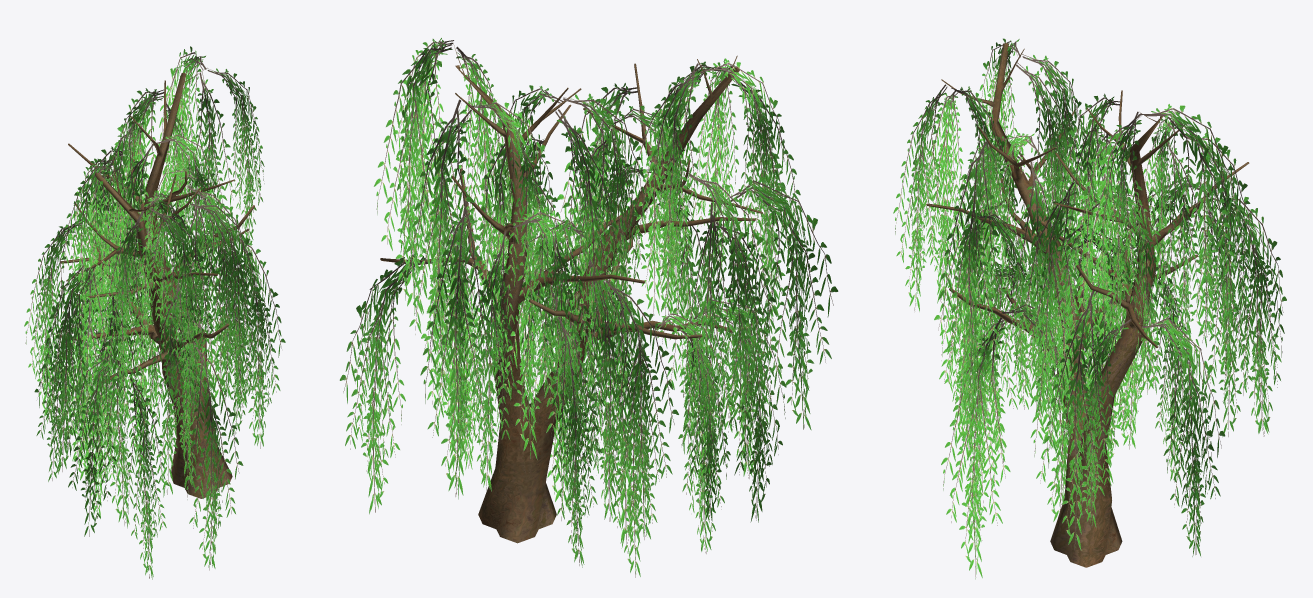
Rendered from Tree.fbx.
3 renders of one model, left to right at view 1: azimuth 30°, elevation 25°; view 2: azimuth 150°, elevation 25°; view 3: azimuth 270°, elevation 25°, orthographic. The views are drawn at different scales.
Visible parts, largest first — view 1: Tree_1, Tree_0; view 2: Tree_1, Tree_0; view 3: Tree_1, Tree_0.
Boxes of the visible parts, x1,y1,x2,y2 form: Tree_1: (24, 46, 285, 579); Tree_0: (59, 68, 254, 498); Tree_1: (339, 38, 838, 577); Tree_0: (380, 43, 762, 543); Tree_1: (893, 38, 1286, 579); Tree_0: (926, 43, 1249, 567).
Bounding box in the file's own units: 80.82 × 115 × 79.02.
2 materials, 2 textured.
